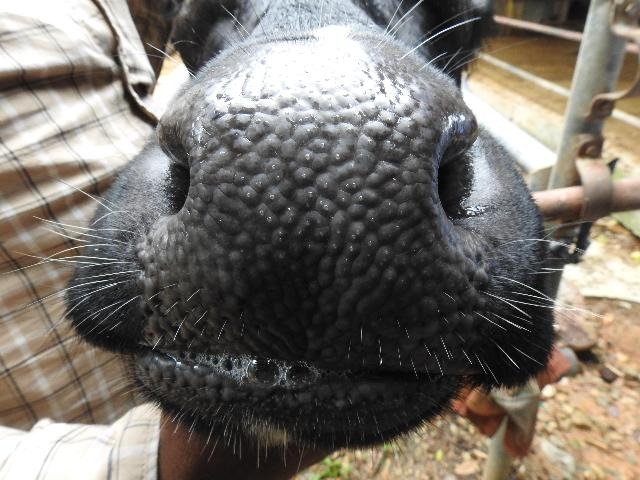Muzzle: (169, 80, 475, 356)
